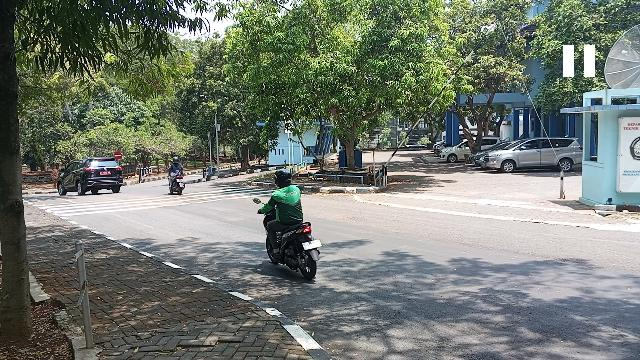helm: (275, 170, 293, 188), (174, 158, 180, 165)
motor: (265, 216, 323, 281), (168, 176, 186, 196)
